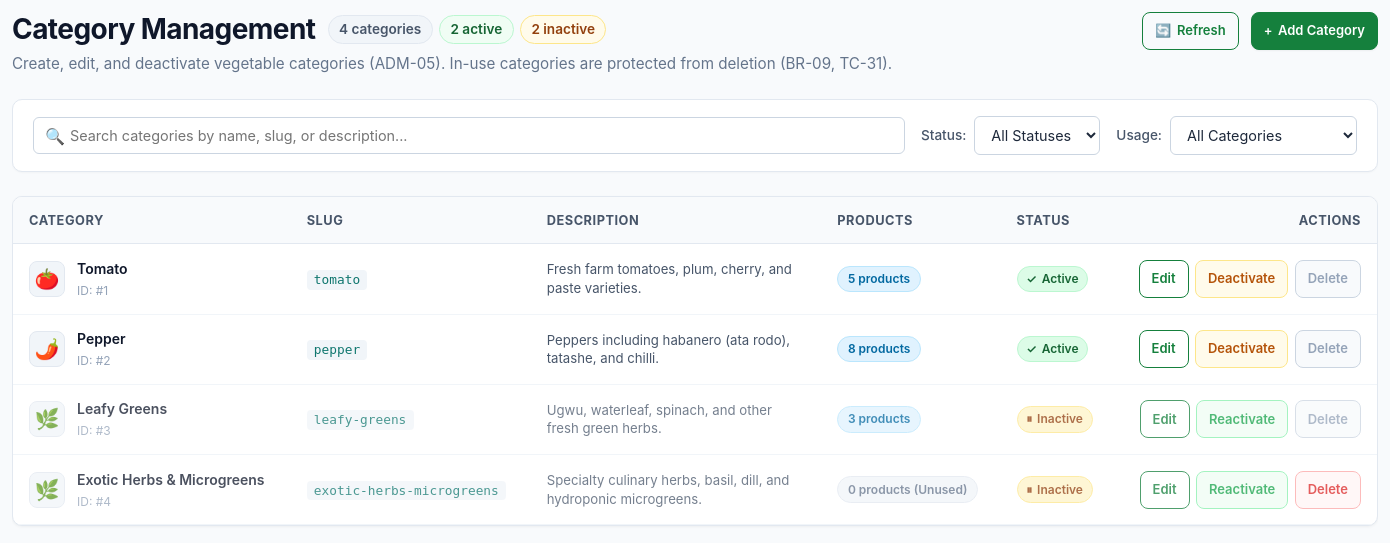
FE-100 / ADM-05: Admin Categories Management Page › 2. Search, Status & Usage Filtering (ADM-05) › filters categories by status (active vs inactive)
expect the table with test id "categories-table" is shown: met, box [13,197,1377,525]
Select "Inactive" in the dropdown with test id "filter-status-select" at (1037, 136), box [974,116,1100,155]
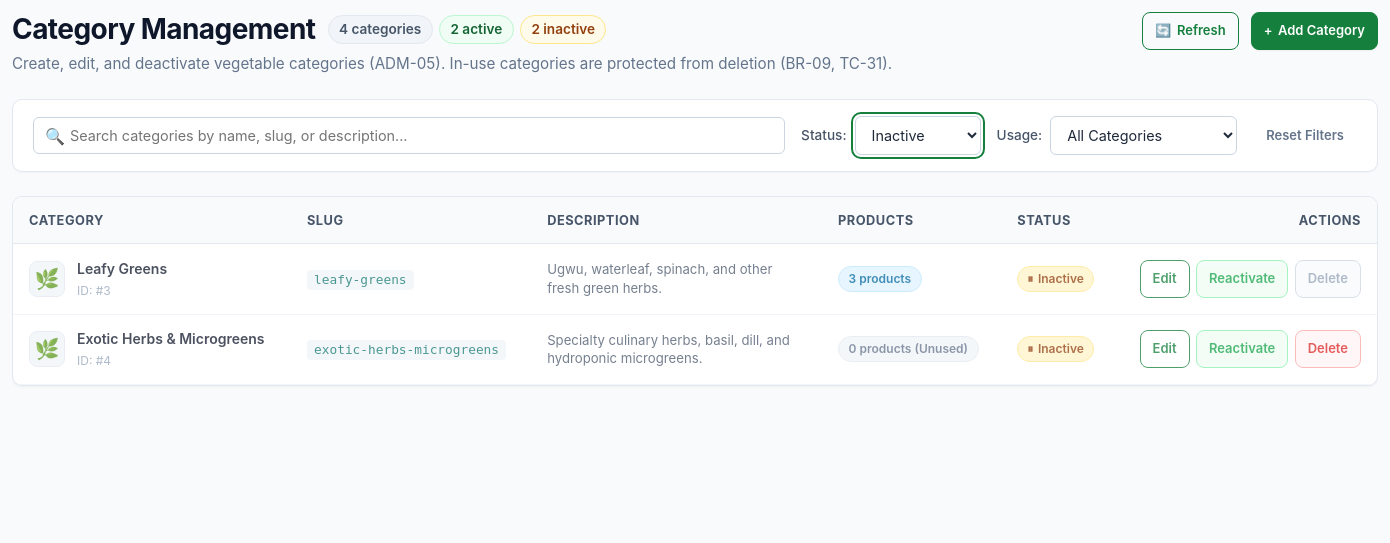
expect the text "Leafy Greens" is shown: met, box [77,258,167,279]
expect the text with test id "category-name-1" is gone: met
expect the text with test id "category-name-2" is gone: met
